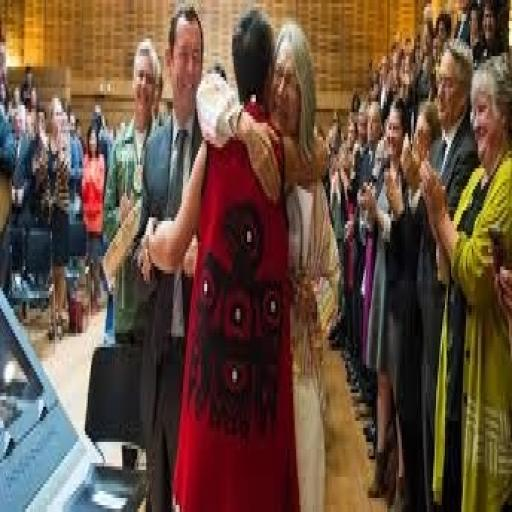clapping: (369, 52, 512, 512), (413, 22, 512, 512), (321, 94, 417, 440), (343, 91, 444, 413)
